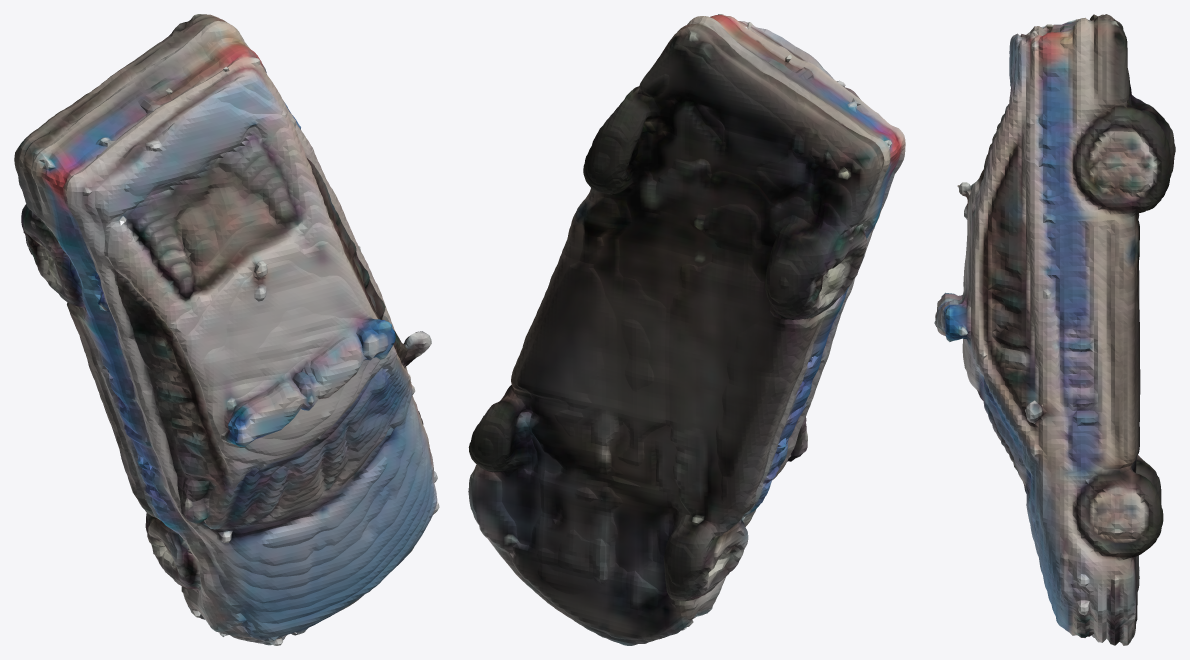
The model's file is 000014_police car_police_blue light.glb.
3 views of the same model, side by side, from view 1: azimuth 30°, elevation 25°; view 2: azimuth 150°, elevation 25°; view 3: azimuth 270°, elevation 25° (orthographic). The views are drawn at different scales.
Parts seen in each view (by area): view 1: world; view 2: world; view 3: world.
Boxes of the visible parts, x1,y1,x2,y2 form: world: (14,14,439,645); world: (468,14,905,645); world: (934,14,1175,645).
Bounding box in the file's own units: 0.6985 × 1.04 × 0.3885.
